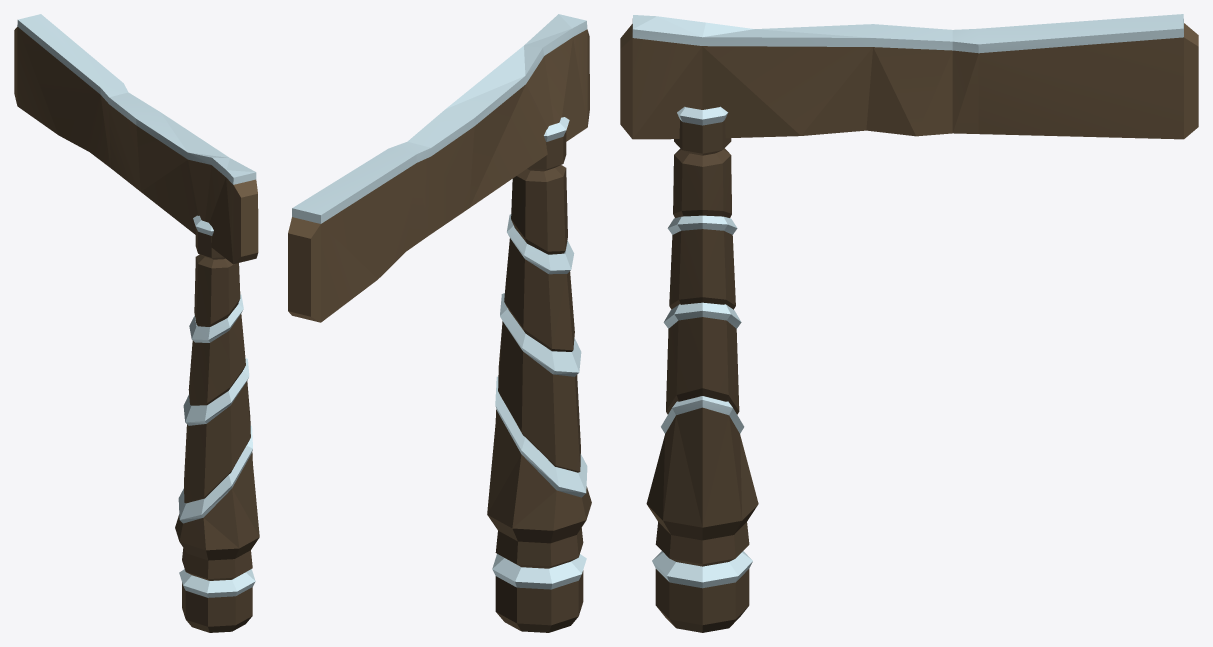
File: Poste01.glb
The picture shows the model from 3 angles, left to right: view 1: azimuth 30°, elevation 25°; view 2: azimuth 150°, elevation 25°; view 3: azimuth 270°, elevation 25°; orthographic projection. The views are drawn at different scales.
Parts seen in each view (by area): view 1: SM_Prop_Pole_01_Snow; view 2: SM_Prop_Pole_01_Snow; view 3: SM_Prop_Pole_01_Snow.
Part boxes in pixels (x1=…): SM_Prop_Pole_01_Snow: x1=14, y1=14, x2=259, y2=632; SM_Prop_Pole_01_Snow: x1=288, y1=14, x2=591, y2=632; SM_Prop_Pole_01_Snow: x1=620, y1=14, x2=1198, y2=632.
Size of the model in its own units: 0.4263 by 2.5 by 2.2.
1 material, 1 textured.
